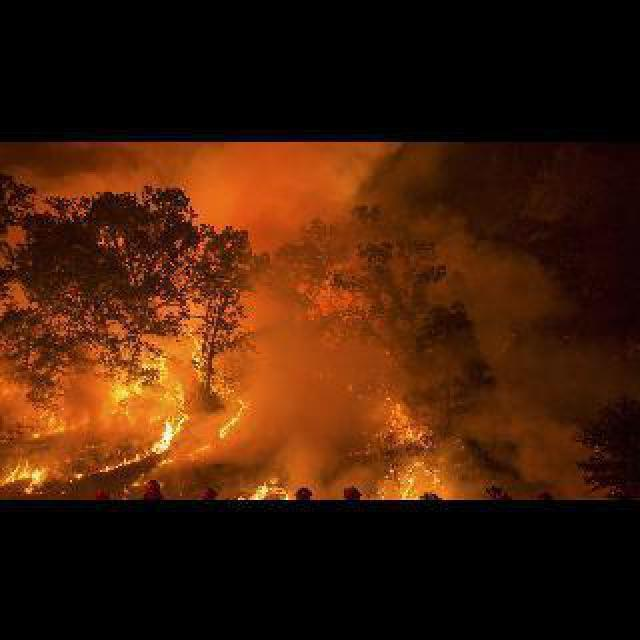Fire: (2, 328, 250, 488), (350, 388, 450, 498)
